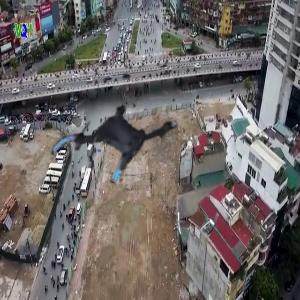drone: (54, 87, 170, 203)
